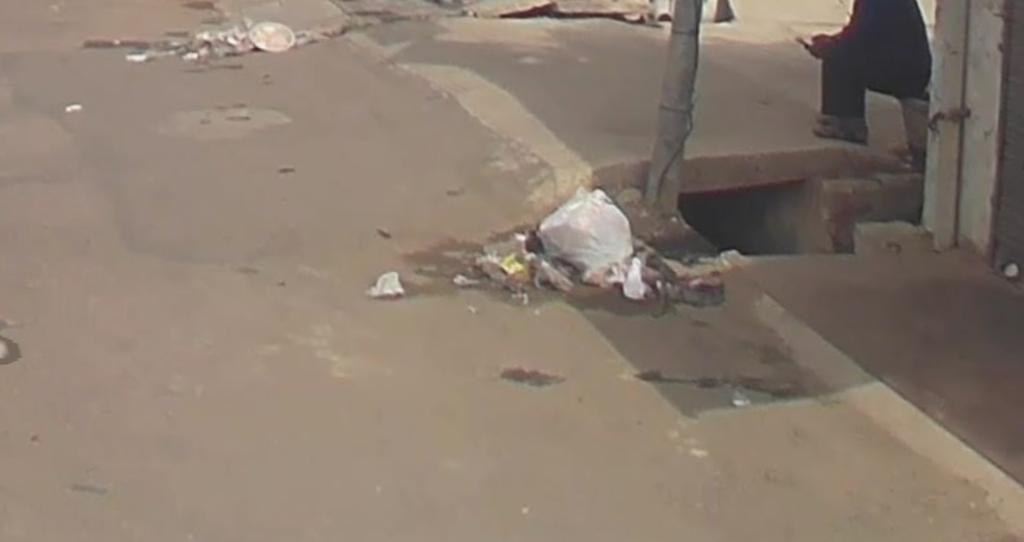garbage: (532, 187, 646, 307), (361, 266, 408, 309)
